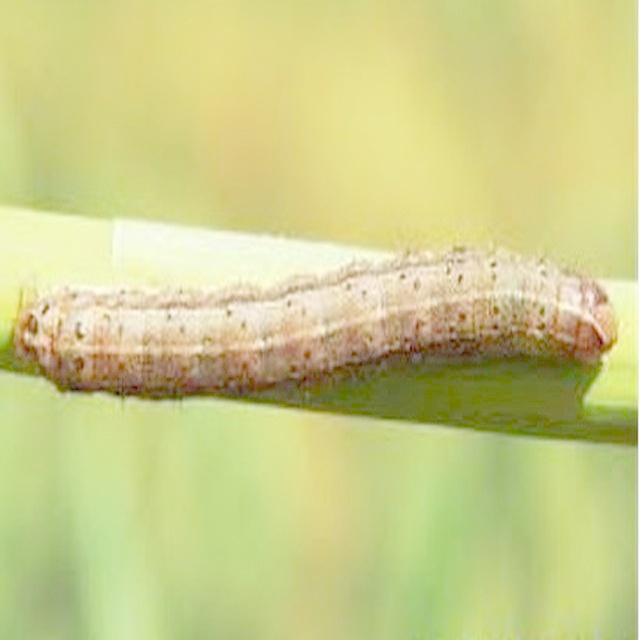gusano_cogollero: (12, 237, 622, 403)
